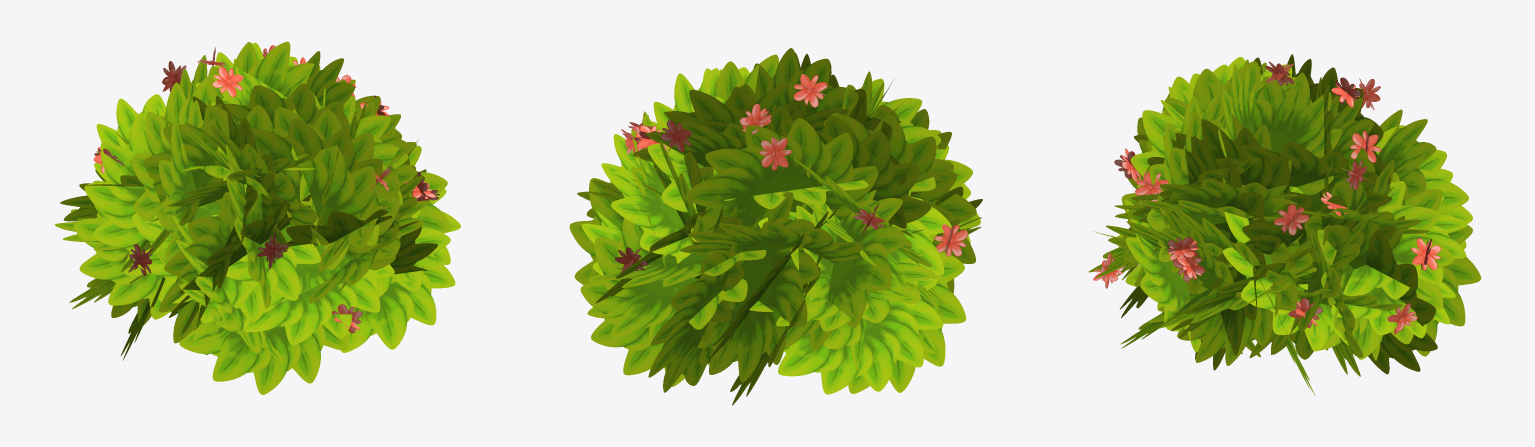
Rendered from Shrub1.fbx.
3 views of the same model, side by side, from view 1: azimuth 30°, elevation 25°; view 2: azimuth 150°, elevation 25°; view 3: azimuth 270°, elevation 25° (orthographic). The views are drawn at different scales.
Visible parts, largest first — view 1: Shrub2; view 2: Shrub2; view 3: Shrub2.
Boxes of the visible parts, x1,y1,x2,y2 form: Shrub2: [55, 41, 460, 394]; Shrub2: [569, 48, 982, 405]; Shrub2: [1088, 54, 1481, 394].
Bounding box in the file's own units: 1404 × 1139 × 1431.
